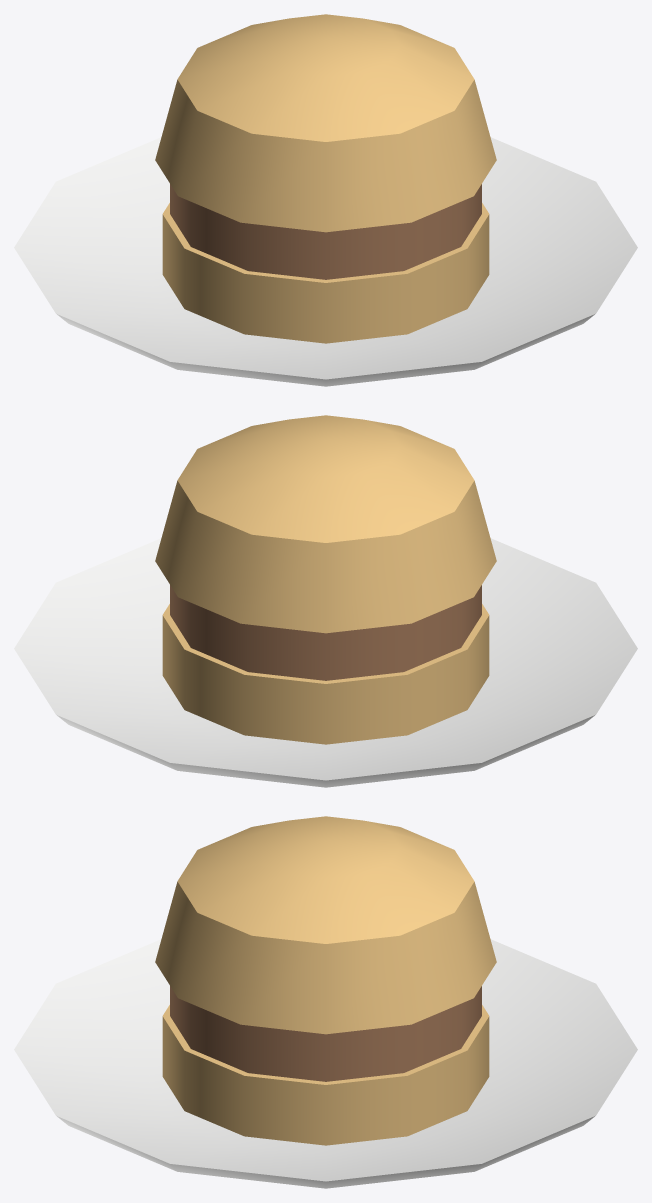
The model's file is kr_icon_burger.glb.
3 renders of one model, top to bottom at view 1: azimuth 30°, elevation 25°; view 2: azimuth 150°, elevation 25°; view 3: azimuth 270°, elevation 25°, orthographic.
Parts seen in each view (by area): view 1: vc_m0_r4, vc_m0_r2, vc_m0_r6; view 2: vc_m0_r4, vc_m0_r2, vc_m0_r6; view 3: vc_m0_r4, vc_m0_r2, vc_m0_r6.
Boxes of the visible parts, x1,y1,x2,y2 form: vc_m0_r4: (155,14,496,343); vc_m0_r2: (14,137,637,386); vc_m0_r6: (170,184,481,279); vc_m0_r4: (155,415,496,744); vc_m0_r2: (14,538,637,787); vc_m0_r6: (170,585,481,680); vc_m0_r4: (155,816,496,1145); vc_m0_r2: (14,939,637,1188); vc_m0_r6: (170,986,481,1081).
Size of the model in its own units: 0.42 by 0.195 by 0.42.
